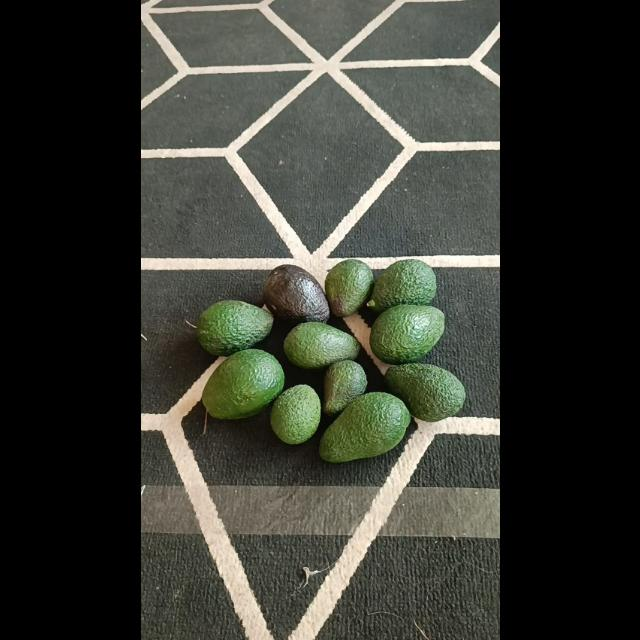Primera: (320, 392, 410, 462), (201, 348, 283, 419), (382, 362, 464, 422), (370, 304, 444, 364), (195, 300, 272, 356), (366, 258, 436, 314), (263, 265, 329, 323), (282, 322, 358, 368)
Segunda: (268, 384, 322, 444), (324, 260, 374, 316)
Tercera: (322, 359, 366, 416)
